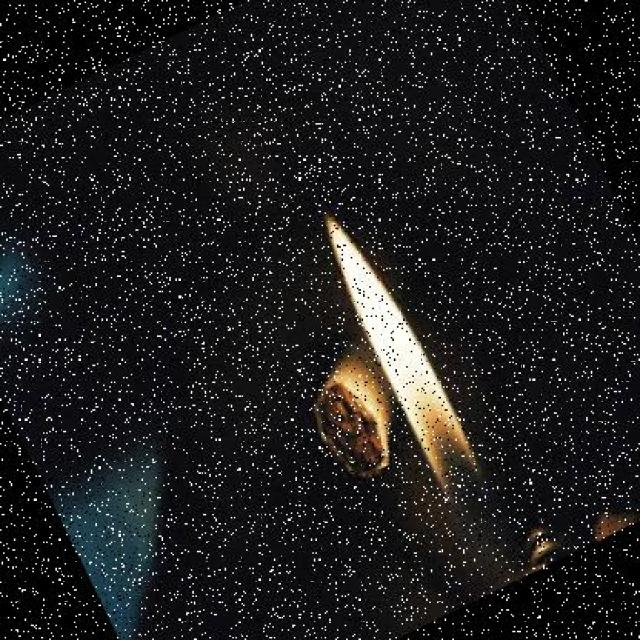fire: (296, 186, 498, 502)
